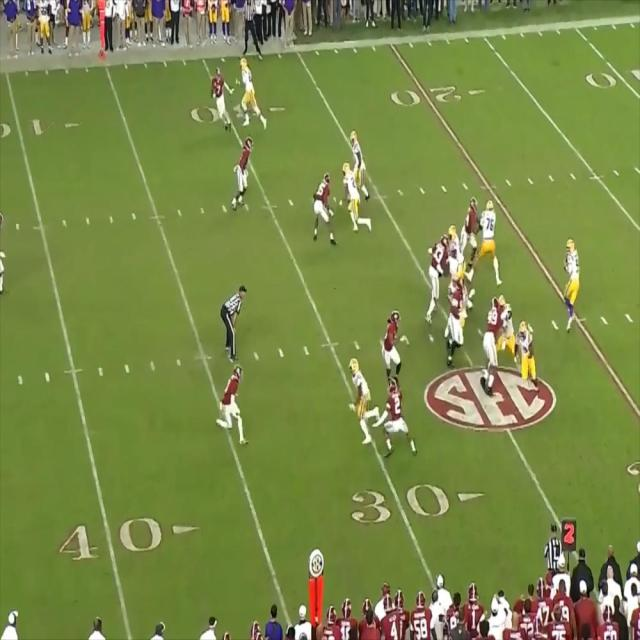db: (388, 372, 412, 459), (222, 364, 246, 440), (236, 139, 253, 210), (211, 72, 227, 130)
lb: (312, 170, 334, 243), (382, 313, 402, 383), (426, 240, 442, 322)
qb: (564, 238, 580, 324)
skill: (349, 359, 372, 448), (516, 320, 538, 395), (488, 296, 507, 377), (240, 57, 262, 124), (343, 164, 362, 238), (352, 130, 368, 193)
